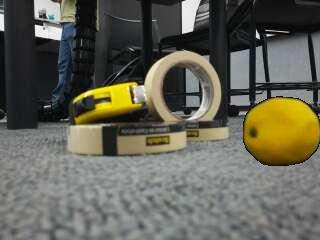lemon: (244, 97, 320, 165)
